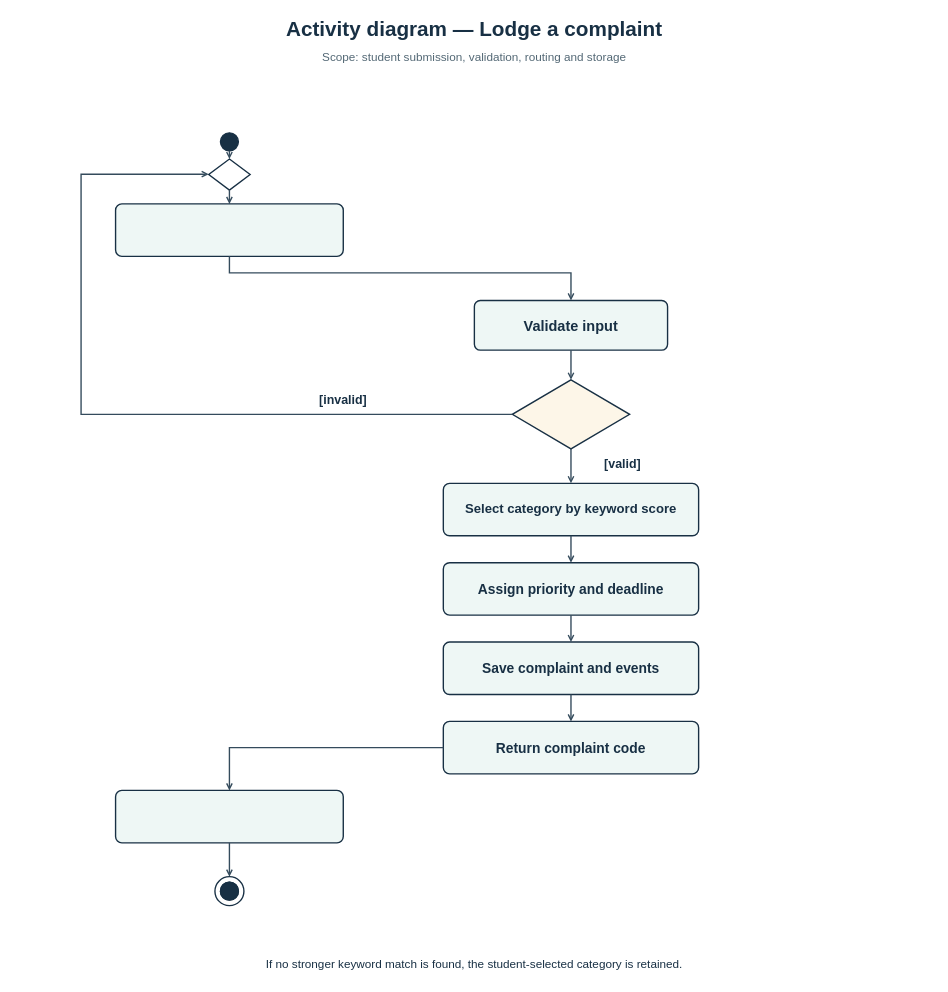
Image size: 948x992. Some labels were removed from this diagram. The box of each missing label's shape, as (x1, y1, x2, y2) in pixels:
Enter complaint details: (115, 203, 344, 257)
Valid?: (511, 379, 630, 449)
View confirmation: (115, 789, 344, 843)
